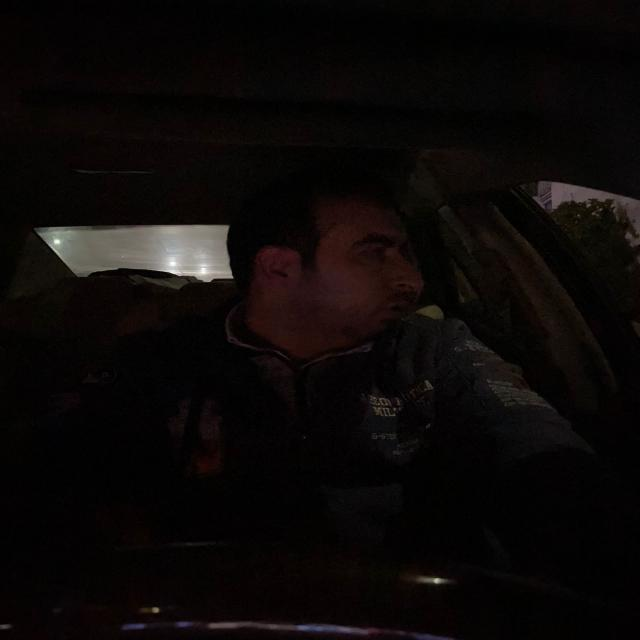LeftRight: (246, 212, 434, 349)
